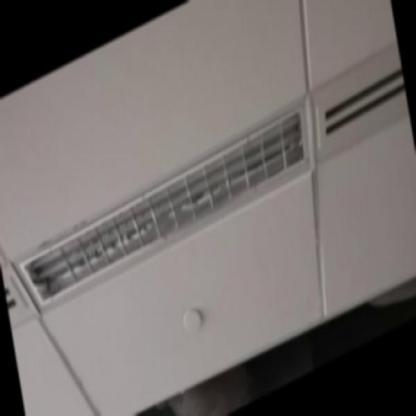light_off: (8, 69, 328, 336)
